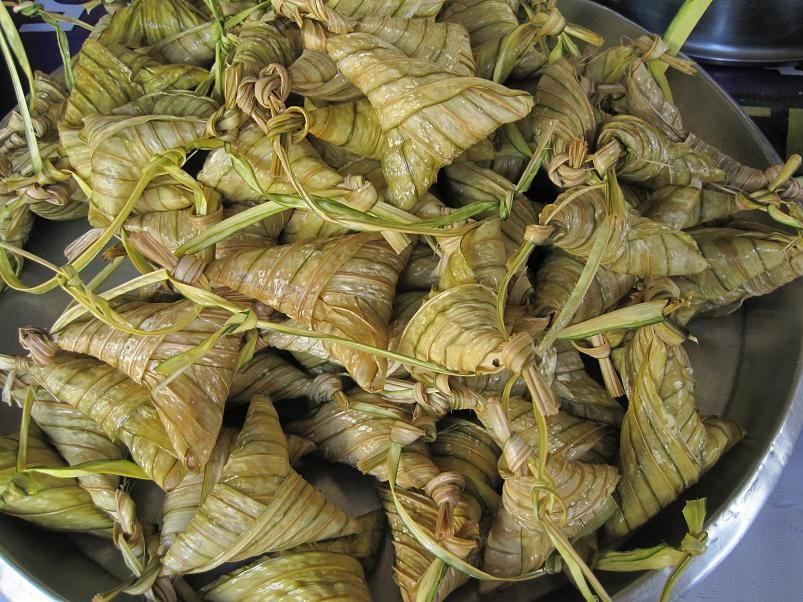kanomtom: (300, 18, 561, 212), (168, 212, 424, 400), (579, 307, 760, 567), (50, 286, 273, 475), (183, 410, 370, 566), (460, 406, 613, 595), (515, 149, 720, 289), (69, 102, 251, 225)
